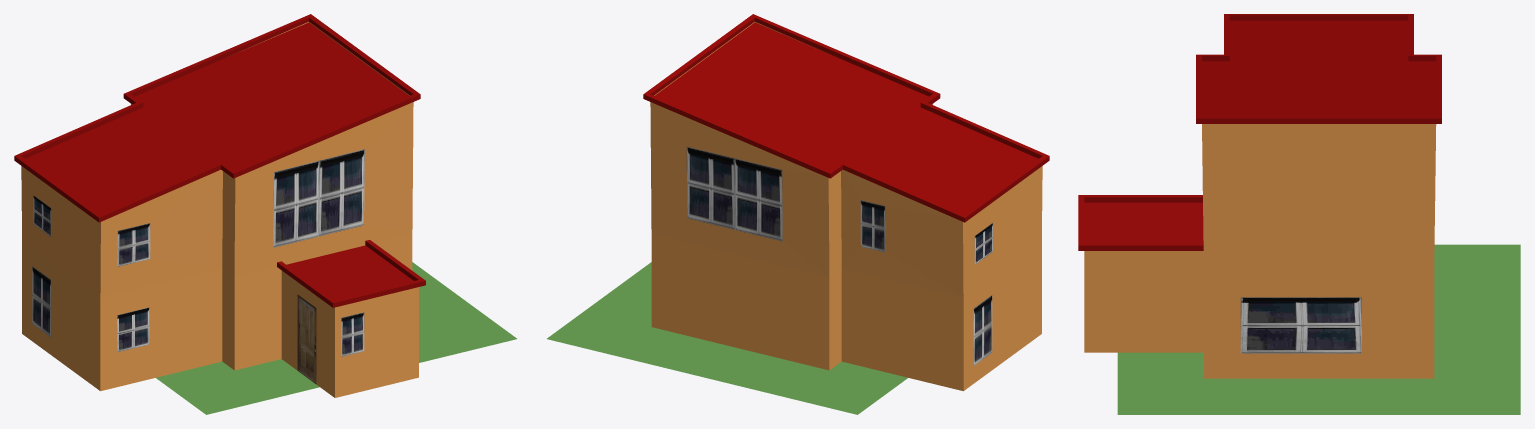
File: House.008.gltf
3 renders of one model, left to right at view 1: azimuth 30°, elevation 25°; view 2: azimuth 150°, elevation 25°; view 3: azimuth 270°, elevation 25°, orthographic. The views are drawn at different scales.
Visible parts, largest first — view 1: building_016, Plane.008; view 2: building_016, Plane.008; view 3: building_016, Plane.008.
Part boxes in pixels (x1,y1,x2,y2): building_016: [14, 14, 425, 397]; Plane.008: [156, 262, 516, 414]; building_016: [643, 14, 1049, 391]; Plane.008: [547, 262, 907, 414]; building_016: [1078, 14, 1441, 378]; Plane.008: [1117, 244, 1520, 414].
Size of the model in its own units: 8.34 by 5.03 by 7.68.
5 materials, 2 textured.
